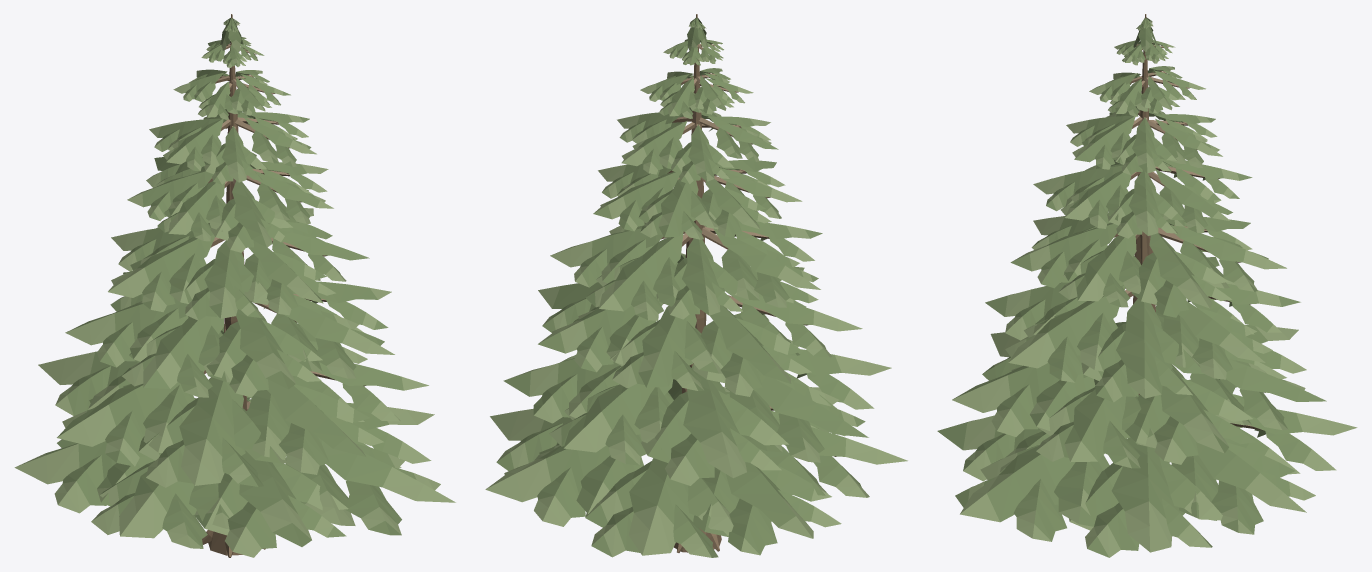
File: Tree_B.fbx
The picture shows the model from 3 angles, left to right: view 1: azimuth 30°, elevation 25°; view 2: azimuth 150°, elevation 25°; view 3: azimuth 270°, elevation 25°; orthographic projection. The views are drawn at different scales.
Parts seen in each view (by area): view 1: Foliage, Wood; view 2: Foliage, Wood; view 3: Foliage, Wood.
Boxes of the visible parts, x1,y1,x2,y2 form: Foliage: (14,18,455,557); Wood: (202,14,365,557); Foliage: (485,18,907,557); Wood: (661,14,836,552); Foliage: (937,18,1357,557); Wood: (1114,14,1265,430).
Bounding box in the file's own units: 1.87 × 2.5 × 1.84.
